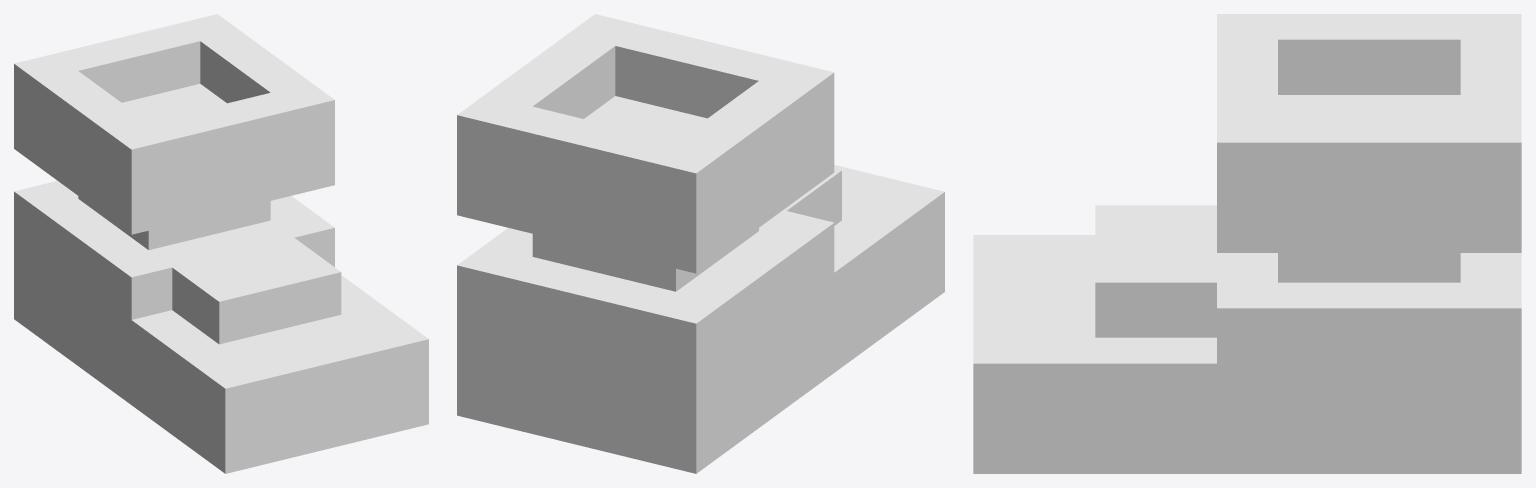
File: Foot_Left_1.fbx
The picture shows the model from 3 angles, left to right: view 1: azimuth 30°, elevation 25°; view 2: azimuth 150°, elevation 25°; view 3: azimuth 270°, elevation 25°; orthographic projection. The views are drawn at different scales.
Visible parts, largest first — view 1: Foot_Left_1; view 2: Foot_Left_1; view 3: Foot_Left_1.
Part boxes in pixels (bbox=[...]): Foot_Left_1: bbox=[14, 14, 428, 473]; Foot_Left_1: bbox=[457, 14, 944, 473]; Foot_Left_1: bbox=[973, 14, 1521, 473].
Bounding box in the file's own units: 5 × 6 × 9.
1 material, 1 textured.
